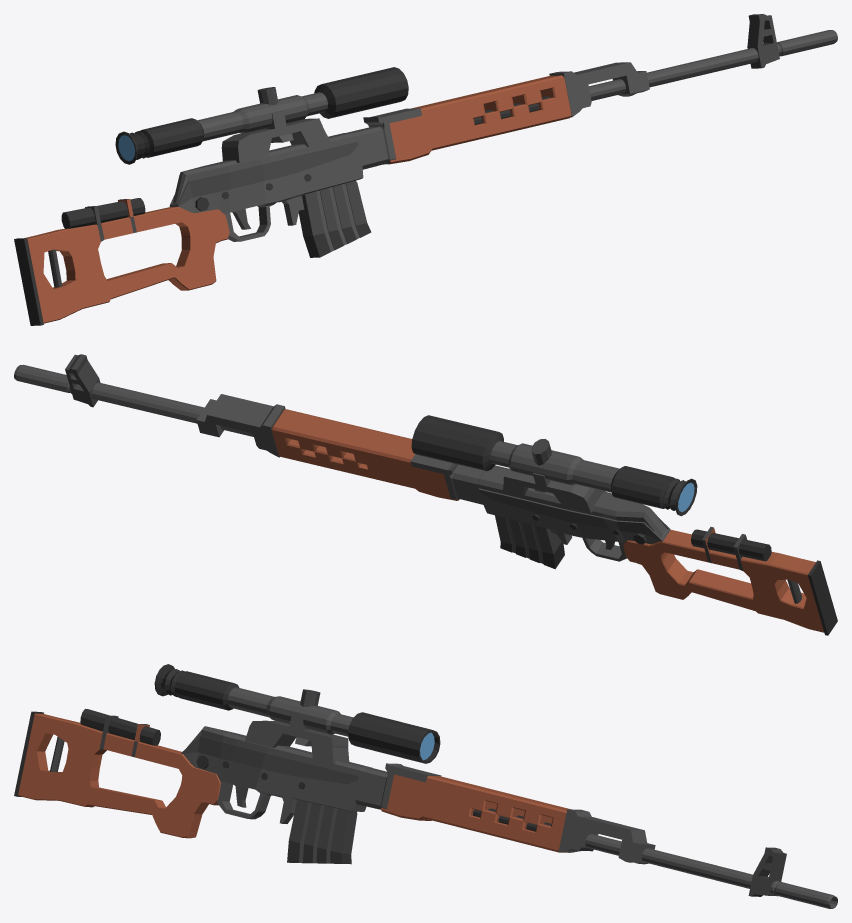
File: Sniper.fbx
3 renders of one model, top to bottom at view 1: azimuth 30°, elevation 25°; view 2: azimuth 150°, elevation 25°; view 3: azimuth 330°, elevation 25°, orthographic. The views are drawn at different scales.
Visible parts, largest first — view 1: Cube.1008; view 2: Cube.1008; view 3: Cube.1008.
Boxes of the visible parts, x1,y1,x2,y2 form: Cube.1008: [14, 14, 837, 325]; Cube.1008: [14, 354, 837, 635]; Cube.1008: [14, 664, 837, 908].
Size of the model in its own units: 68.18 by 12.37 by 6.6.
